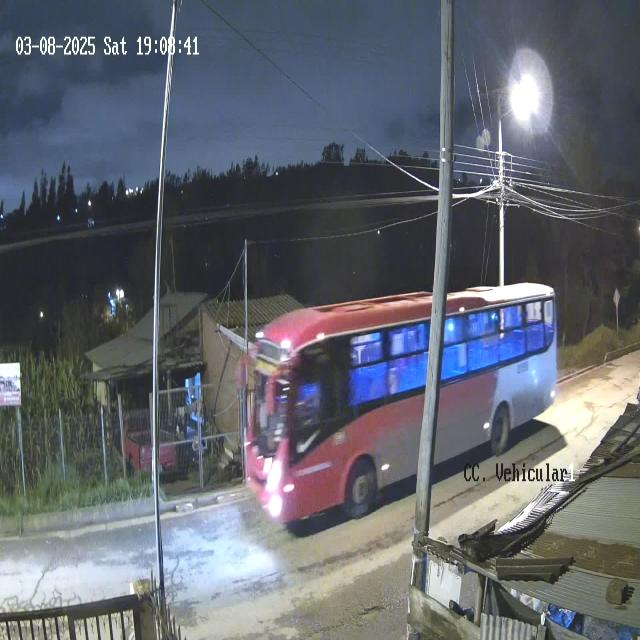BUS: (246, 282, 558, 530)
